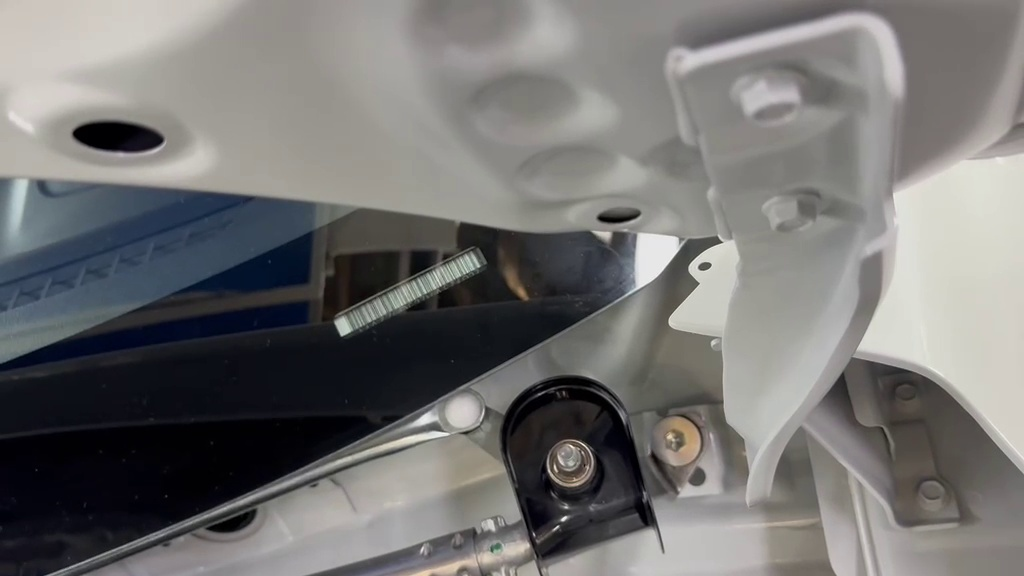barcode: (459, 360, 695, 574)
hinge: (302, 222, 523, 362)
